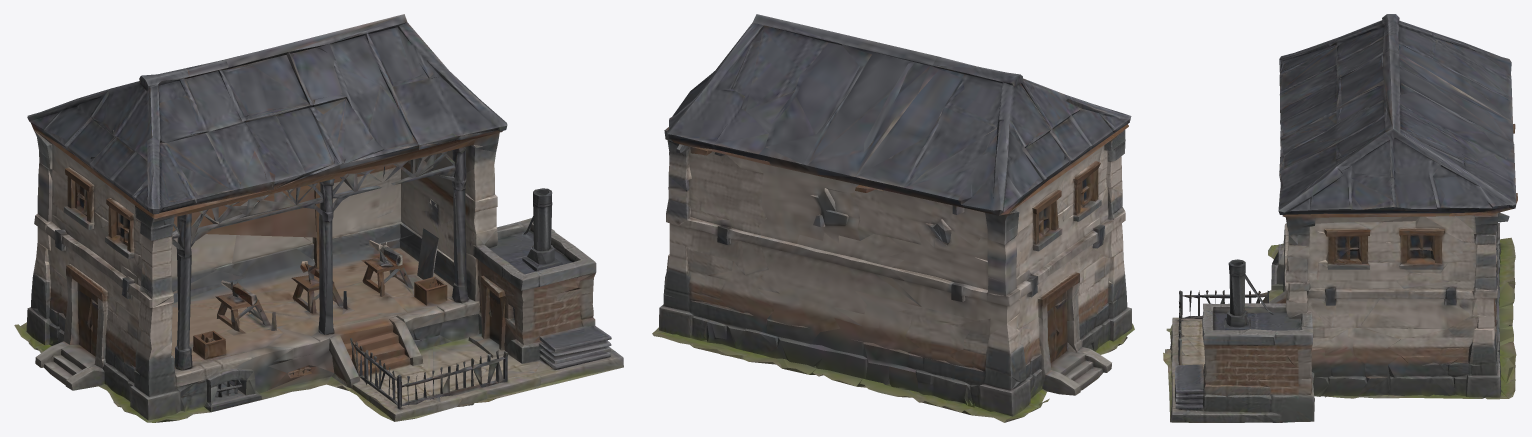
File: archery.glb
The picture shows the model from 3 angles, left to right: view 1: azimuth 30°, elevation 25°; view 2: azimuth 150°, elevation 25°; view 3: azimuth 270°, elevation 25°; orthographic projection. The views are drawn at different scales.
Bounding box in the file's own units: 1.9 × 1.18 × 1.49.
Materials: 1 (1 with a texture image).
